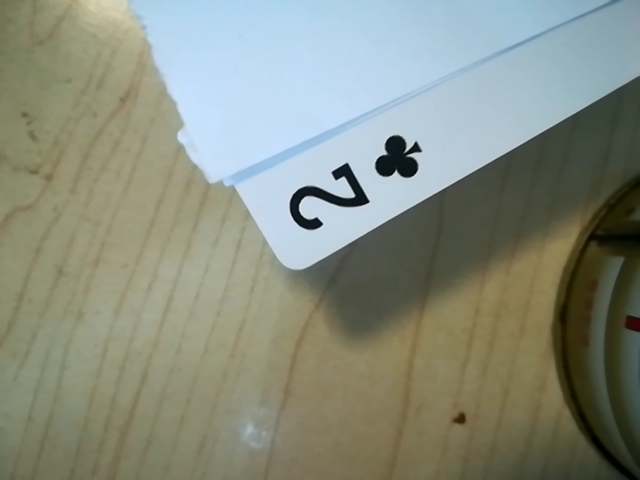mh 2: (266, 128, 440, 242)
